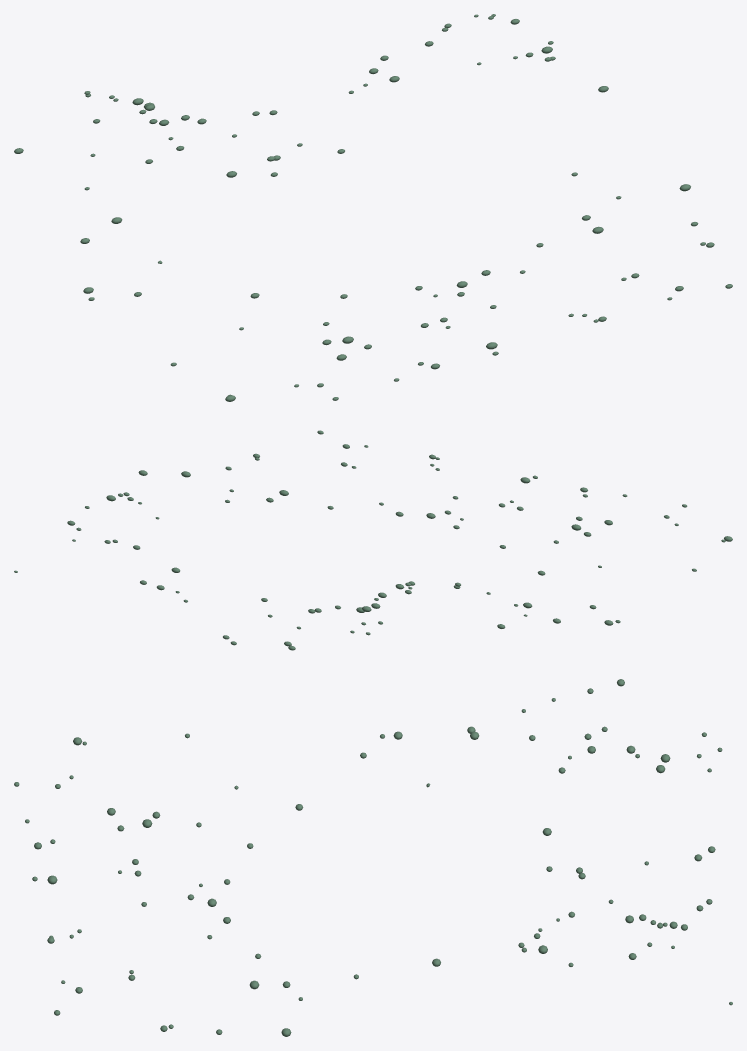
The model's file is SM_Shrubs.fbx.
The picture shows the model from 3 angles, top to bottom: view 1: azimuth 30°, elevation 25°; view 2: azimuth 150°, elevation 25°; view 3: azimuth 270°, elevation 25°; orthographic projection. The views are drawn at different scales.
Parts seen in each view (by area): view 1: SM_Shrubs; view 2: SM_Shrubs; view 3: SM_Shrubs.
Boxes of the visible parts, x1,y1,x2,y2 form: SM_Shrubs: [14, 14, 732, 401]; SM_Shrubs: [14, 430, 732, 650]; SM_Shrubs: [14, 679, 732, 1036].
Size of the model in its own units: 9191 by 8942 by 1473.
